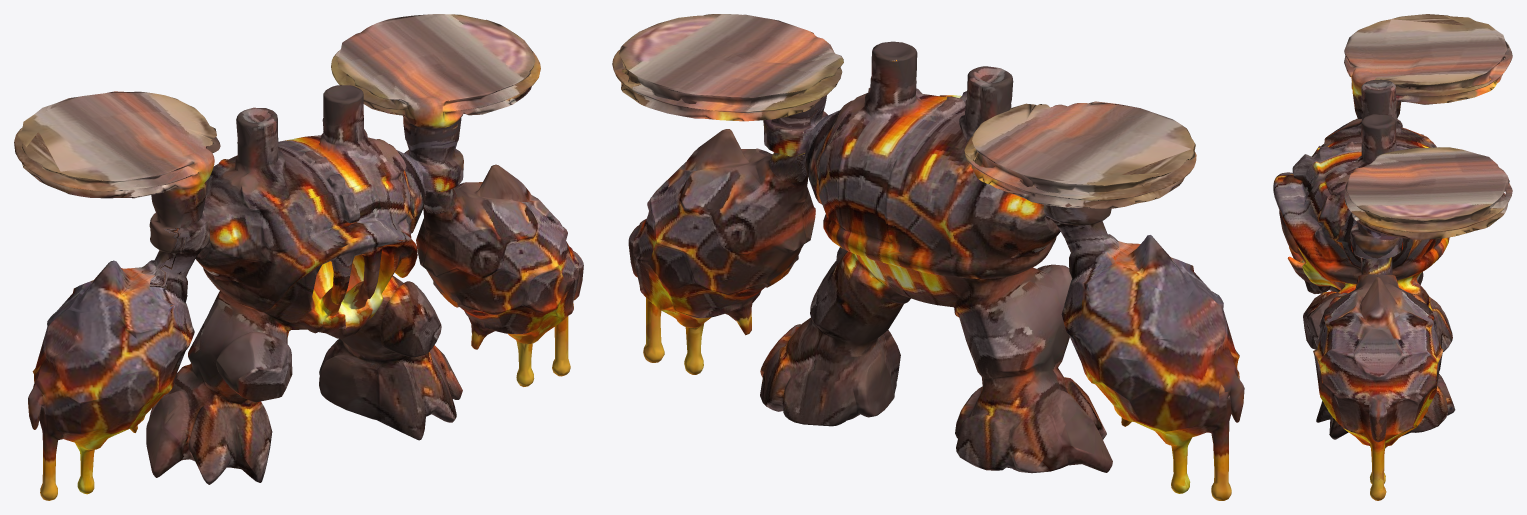
Rendered from calderon.glb.
3 renders of one model, left to right at view 1: azimuth 30°, elevation 25°; view 2: azimuth 150°, elevation 25°; view 3: azimuth 270°, elevation 25°, orthographic. The views are drawn at different scales.
Bounding box in the file's own units: 0.9797 × 0.5712 × 0.4261.
Materials: 1 (1 with a texture image).
